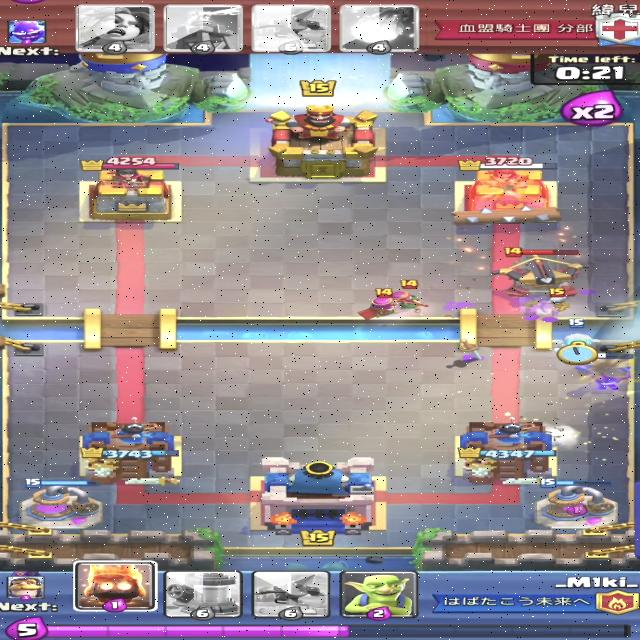Enemy-Archer: (356, 287, 402, 319), (388, 280, 428, 316)
Enemy-Skeleton: (544, 288, 572, 314)
Enemy-XBow: (489, 247, 592, 298)
Player-ElixirPump: (533, 477, 621, 531), (18, 478, 105, 531)
Player-IceSpirit: (558, 318, 601, 350)
Player-Musketeer: (577, 349, 635, 392)
